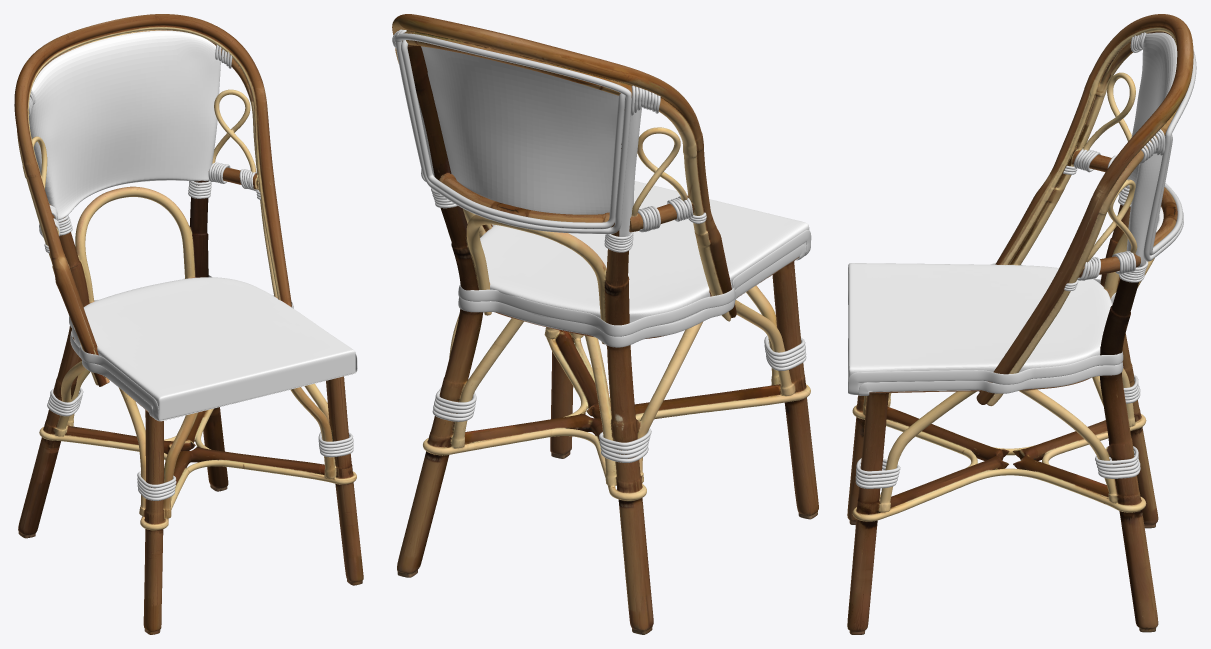
File: ogive-bourdon.glb
The picture shows the model from 3 angles, left to right: view 1: azimuth 30°, elevation 25°; view 2: azimuth 150°, elevation 25°; view 3: azimuth 270°, elevation 25°; orthographic projection. The views are drawn at different scales.
Visible parts, largest first — view 1: mesh_tressage, mesh_structure, mesh_laniere; view 2: mesh_structure, mesh_tressage, mesh_laniere; view 3: mesh_structure, mesh_tressage, mesh_laniere.
Boxes of the visible parts, x1,y1,x2,y2 form: mesh_tressage: (29,30,355,420); mesh_structure: (14,14,363,634); mesh_laniere: (14,44,357,500); mesh_structure: (392,14,818,634); mesh_tressage: (416,46,809,334); mesh_laniere: (392,29,811,462); mesh_structure: (847,14,1193,634); mesh_tressage: (848,32,1177,391); mesh_laniere: (848,32,1196,488).
Size of the model in its own units: 0.481 by 0.9003 by 0.5384.
Materials: 2 (1 with a texture image).
